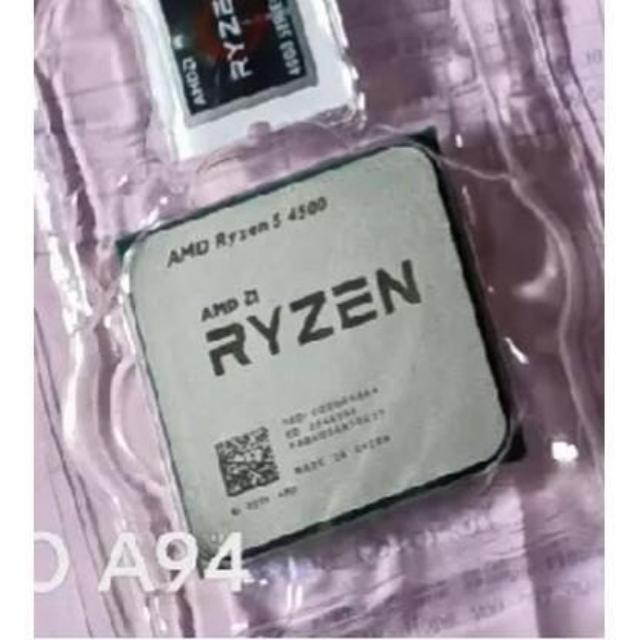CPU: (120, 142, 502, 562)
